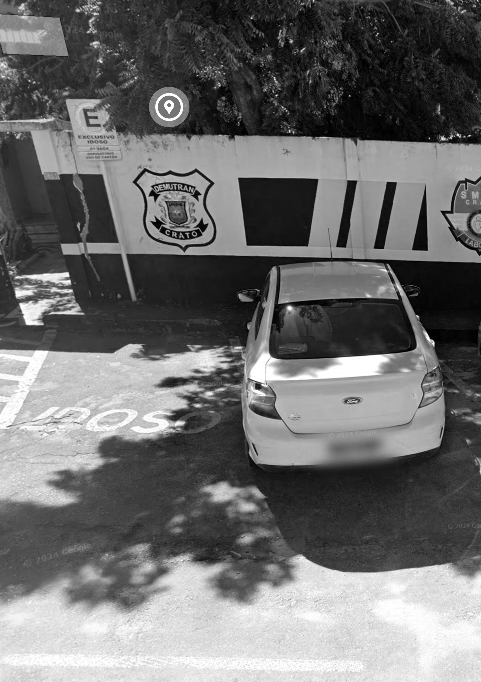car: (224, 226, 459, 496)
